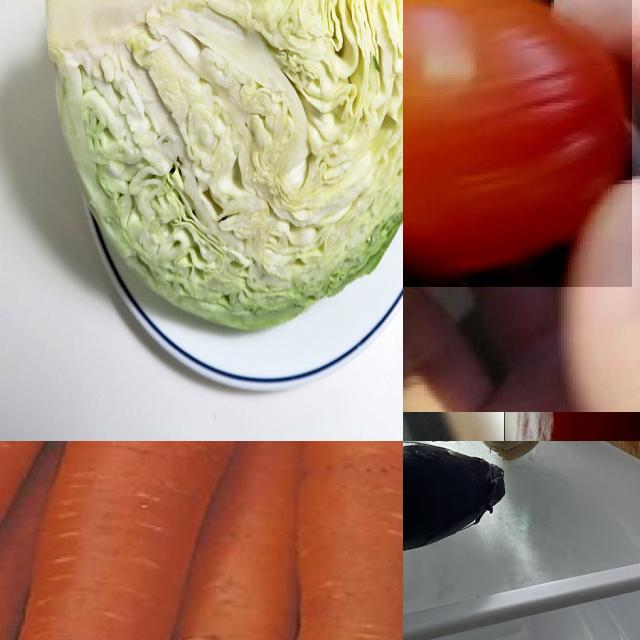cabbage: (39, 1, 404, 337)
carrot: (1, 442, 259, 640), (282, 442, 404, 640), (1, 442, 106, 640)
eggplant: (404, 442, 507, 564)
onion: (466, 442, 558, 474)
